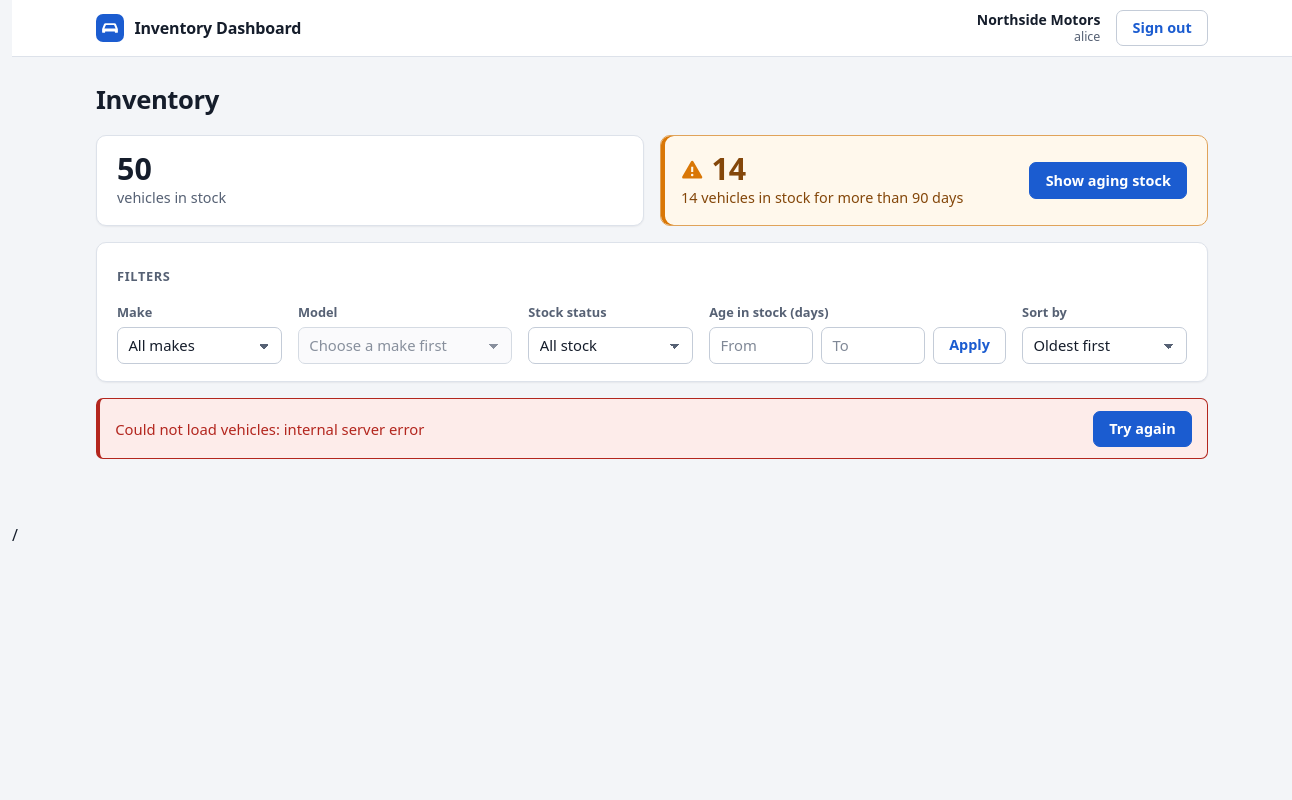
Test: the inventory list › reports a failure and lets the user retry
Expected: the message shows "Could not load vehicles", [115,419,284,439]
Click the button "Try again".
click(1142, 429)  # box [1093,411,1192,447]
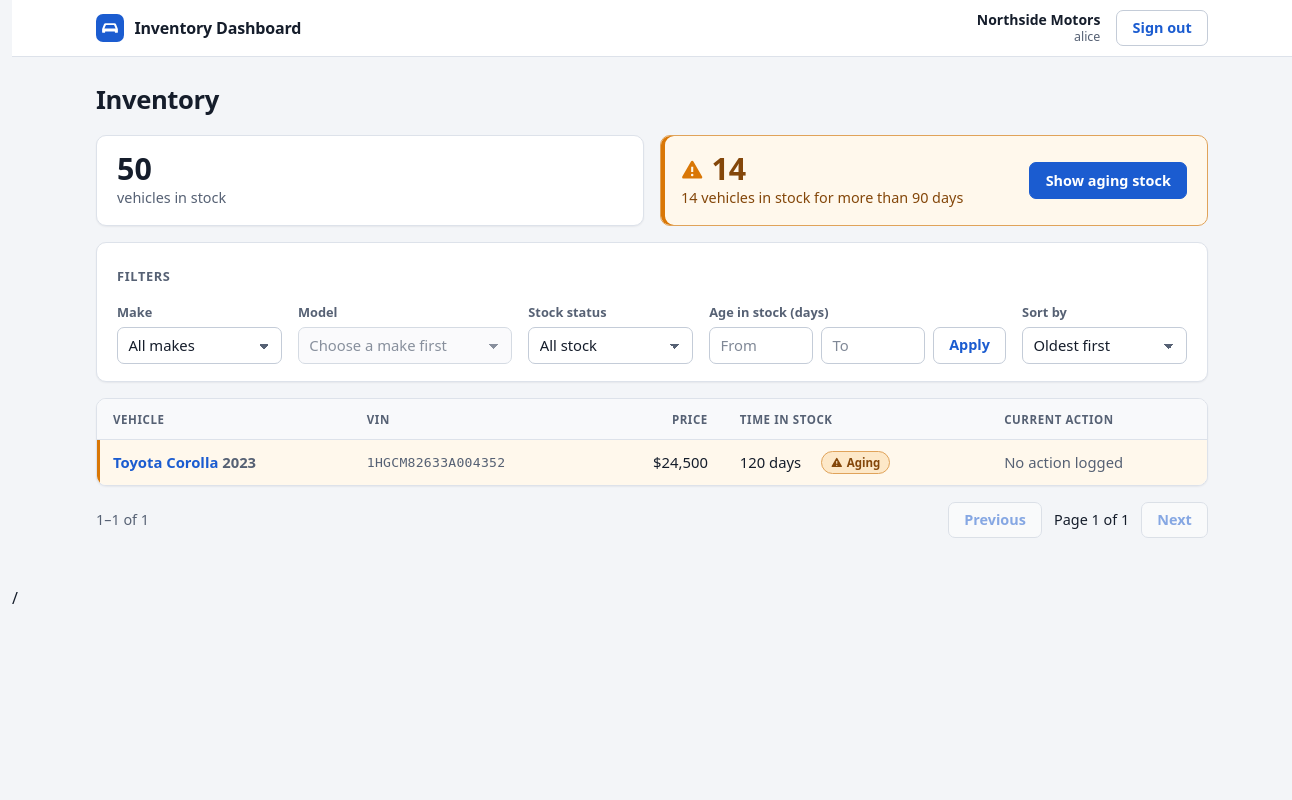
Now the link "Toyota Corolla" is shown, box [113,452,218,472]
